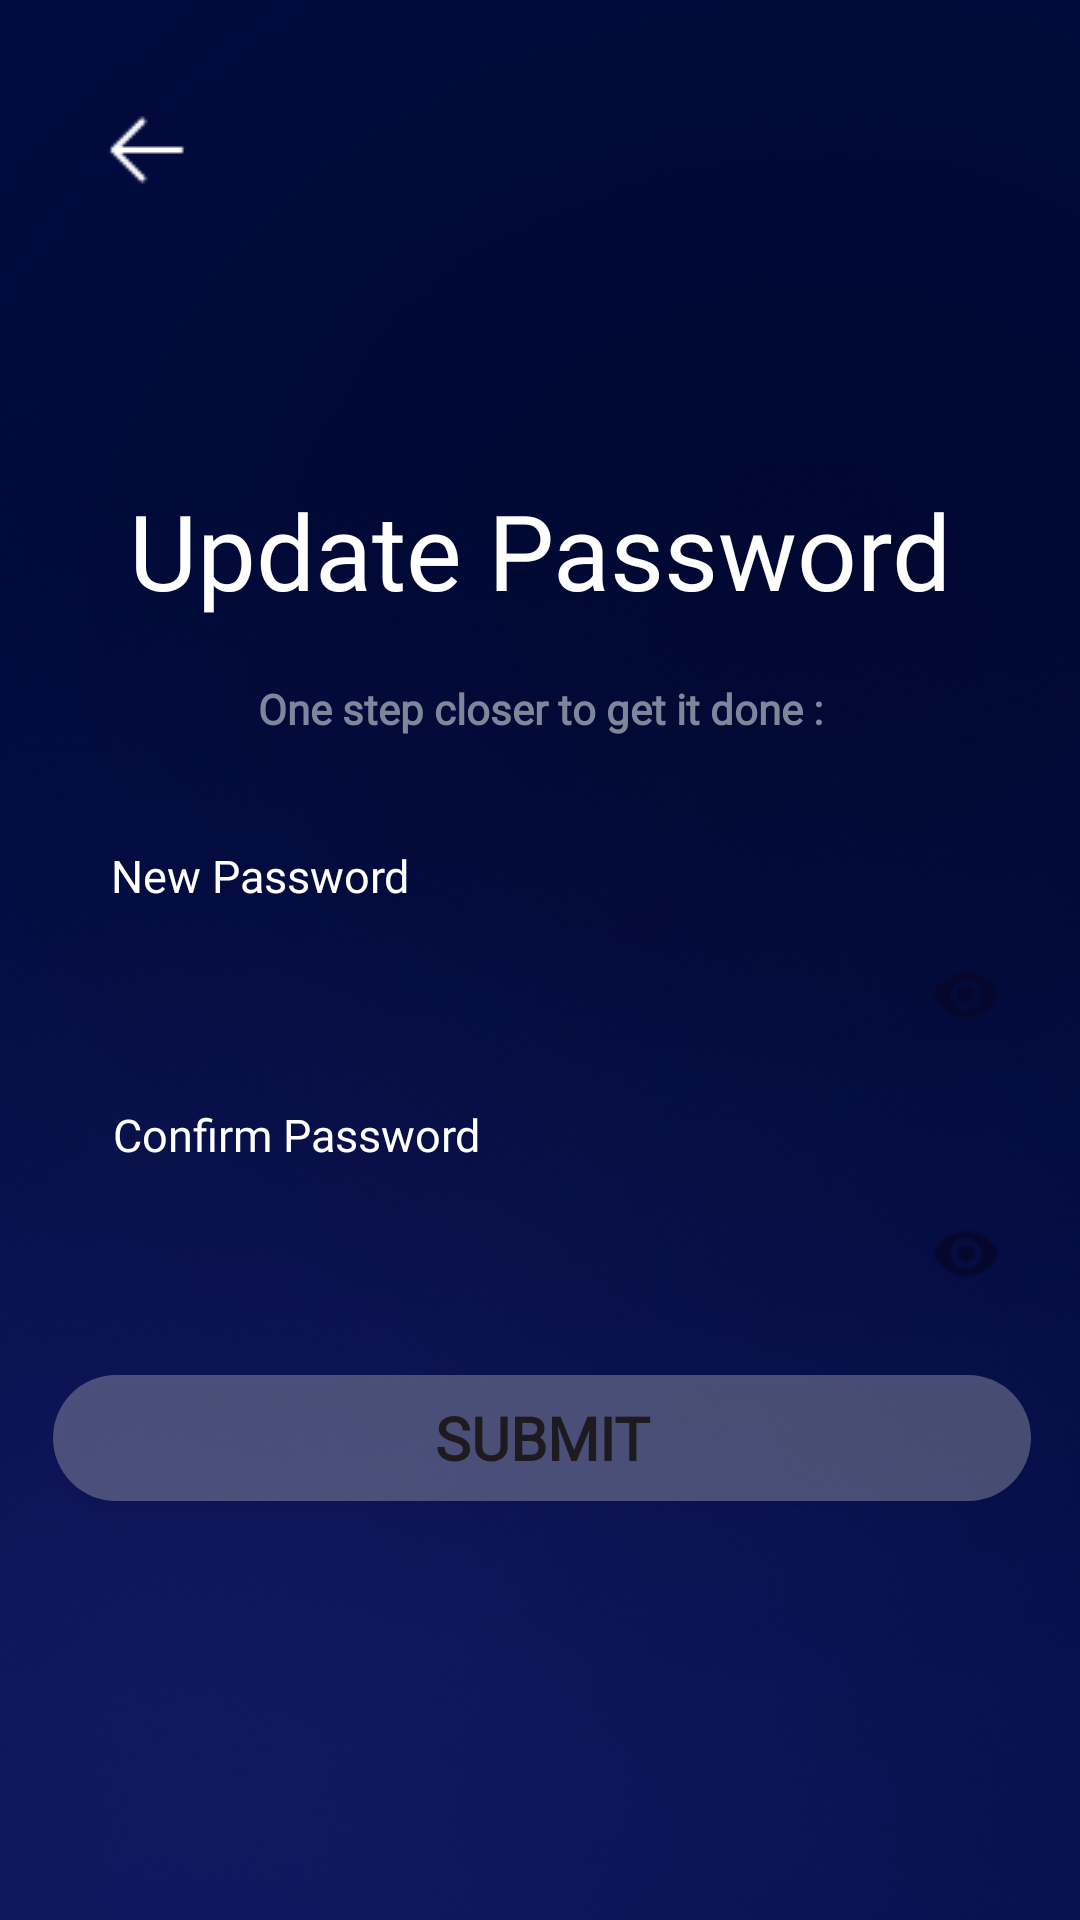

Icons on this 1080px×1920px Android screen, each with the point to tap as (x=x, y=y):
backarrow: (x=147, y=150)
